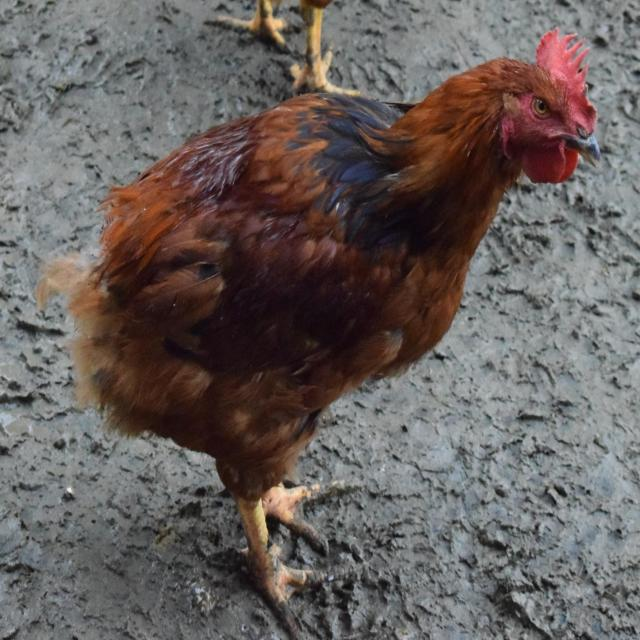cook: (38, 31, 600, 638)
